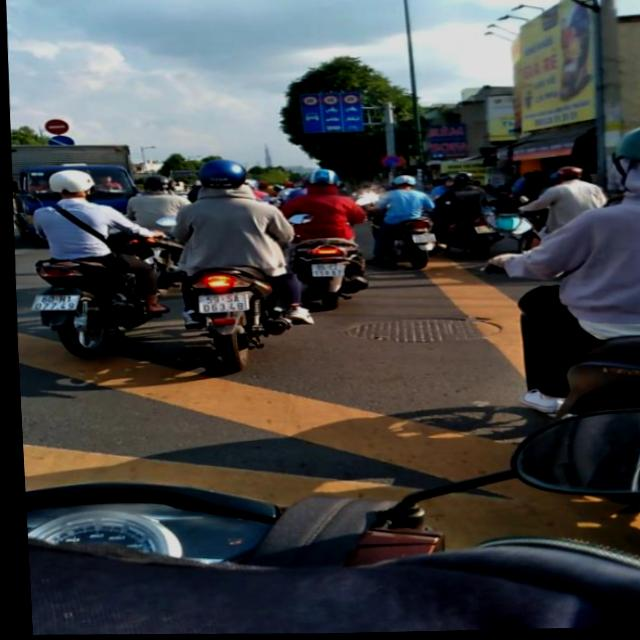Cam di nguoc chieu: (41, 118, 68, 135)
Cam do xe: (378, 156, 402, 170)
Toc do toi da cho phep: (319, 96, 338, 107), (339, 95, 358, 106), (299, 97, 318, 107)
Vong chuong ngai vat sang phai: (46, 135, 72, 150)
